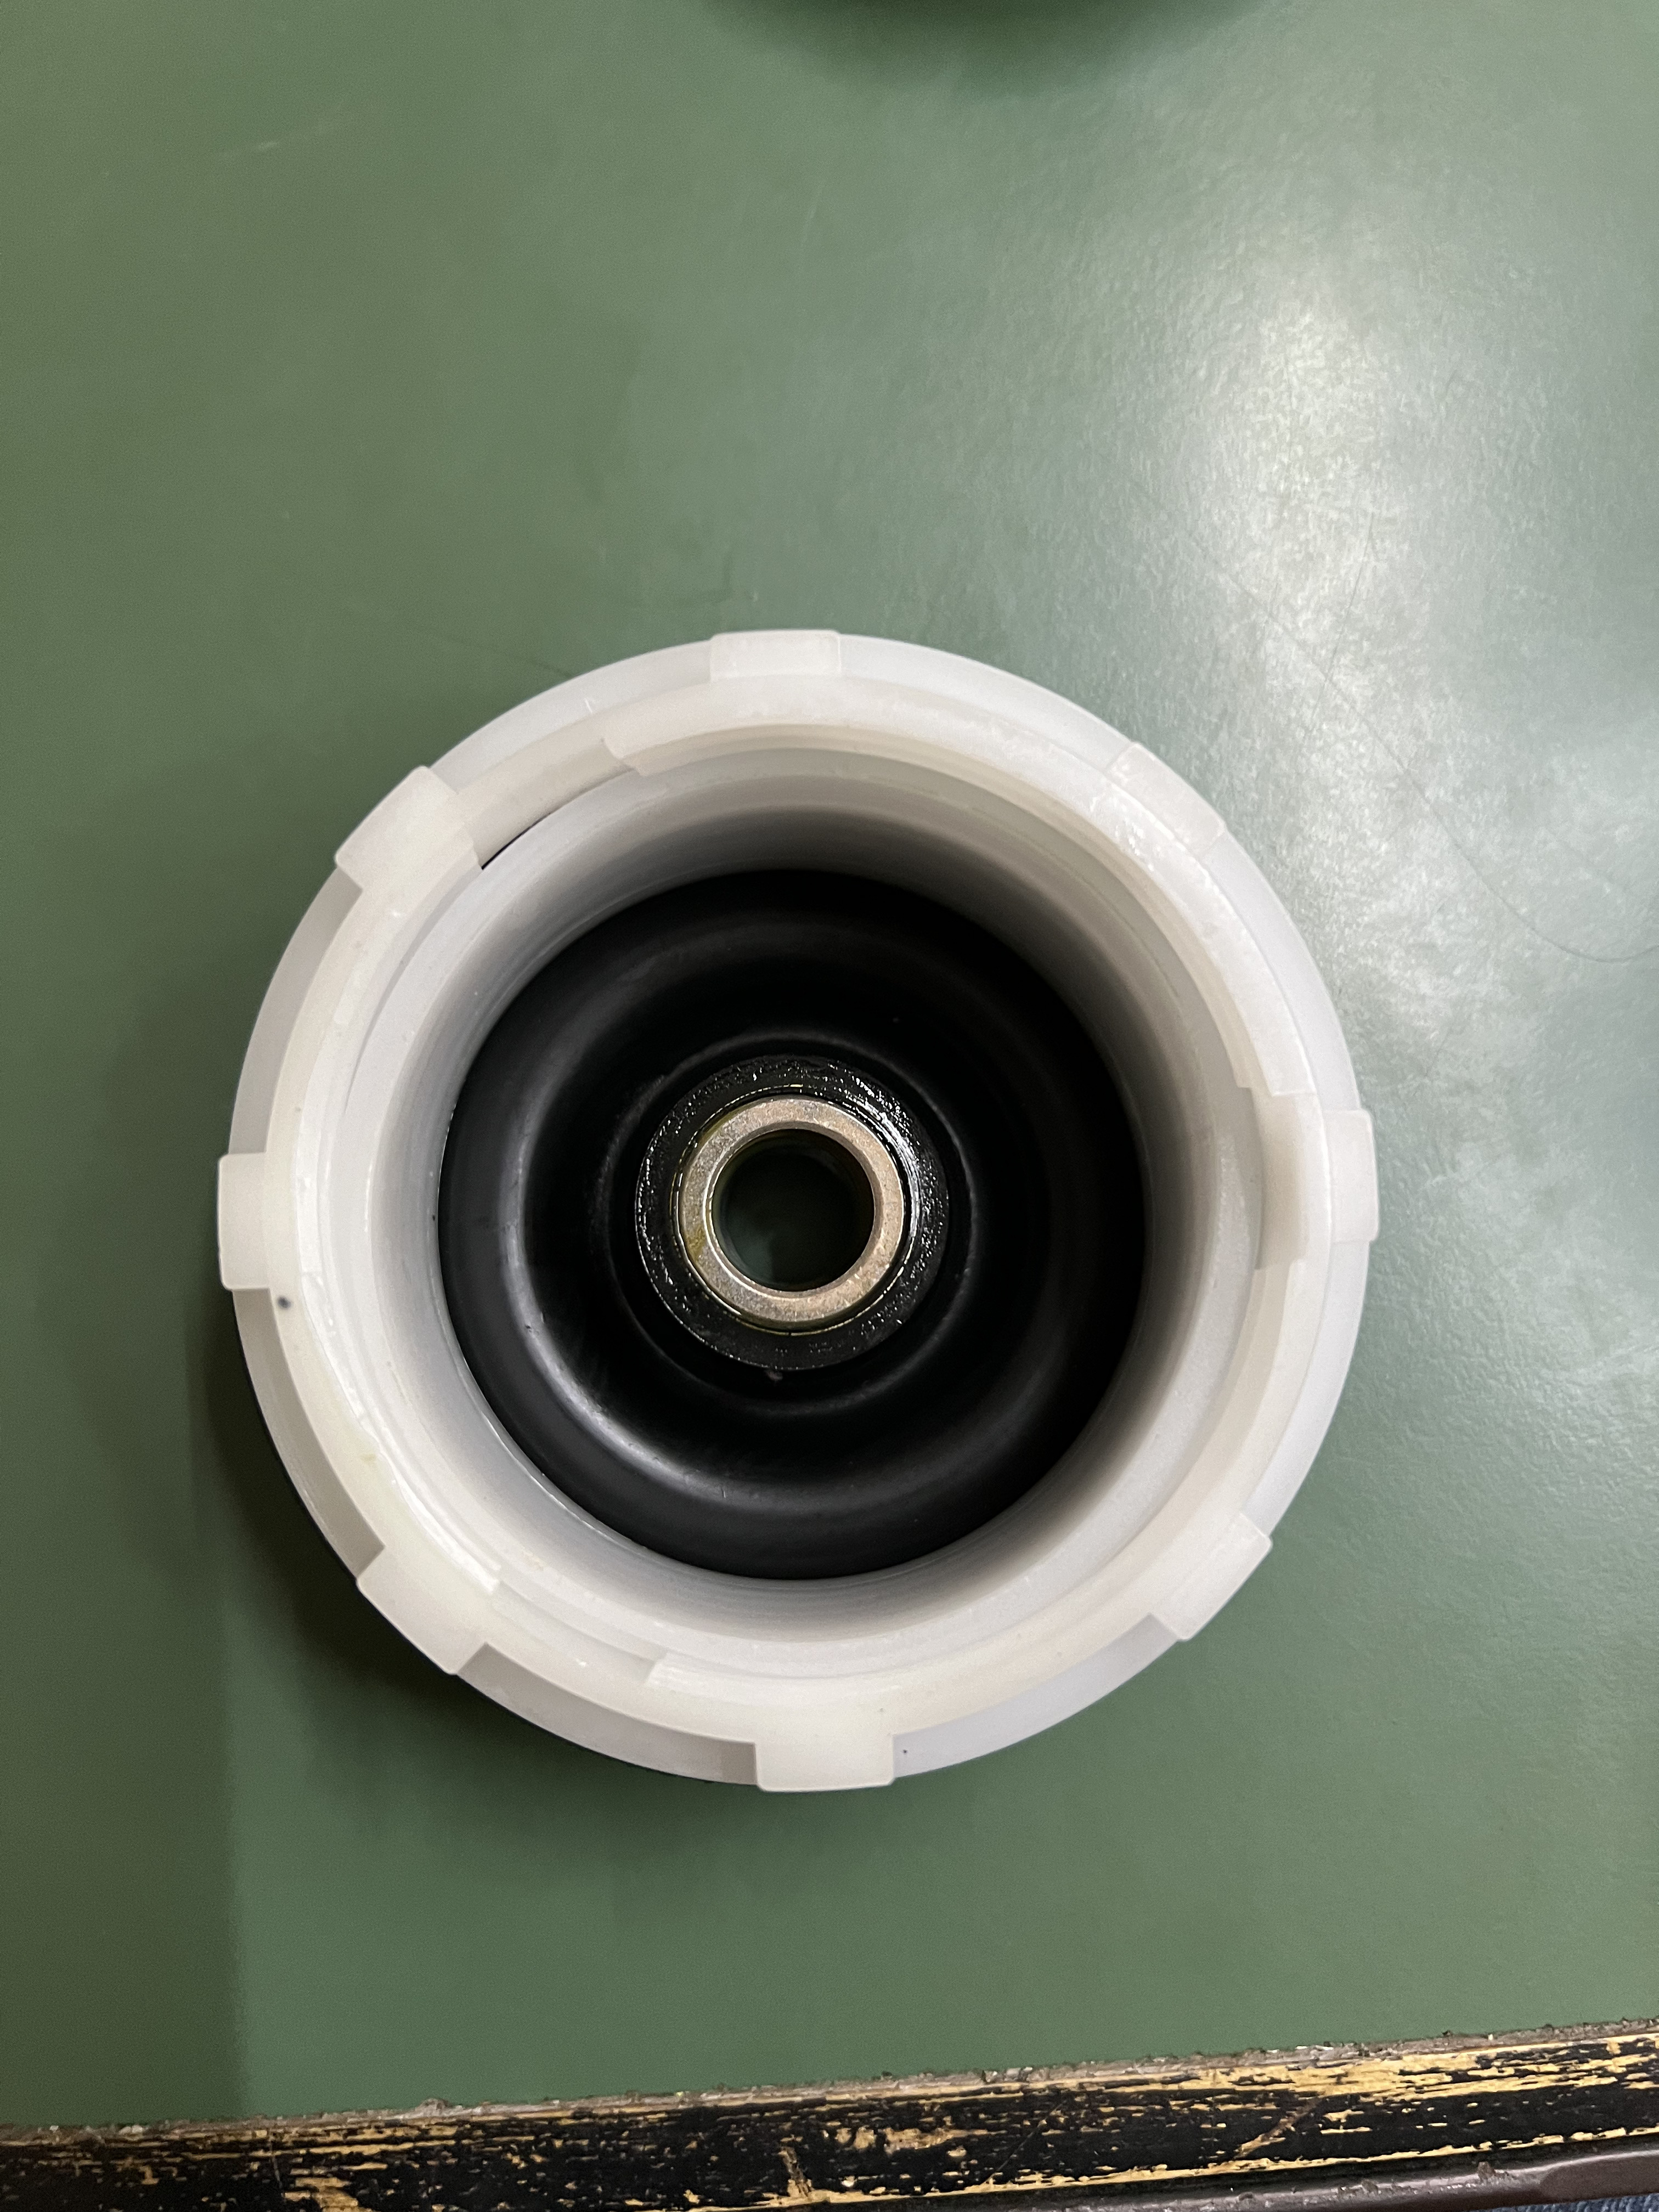lever: (171, 629, 1408, 1820)
